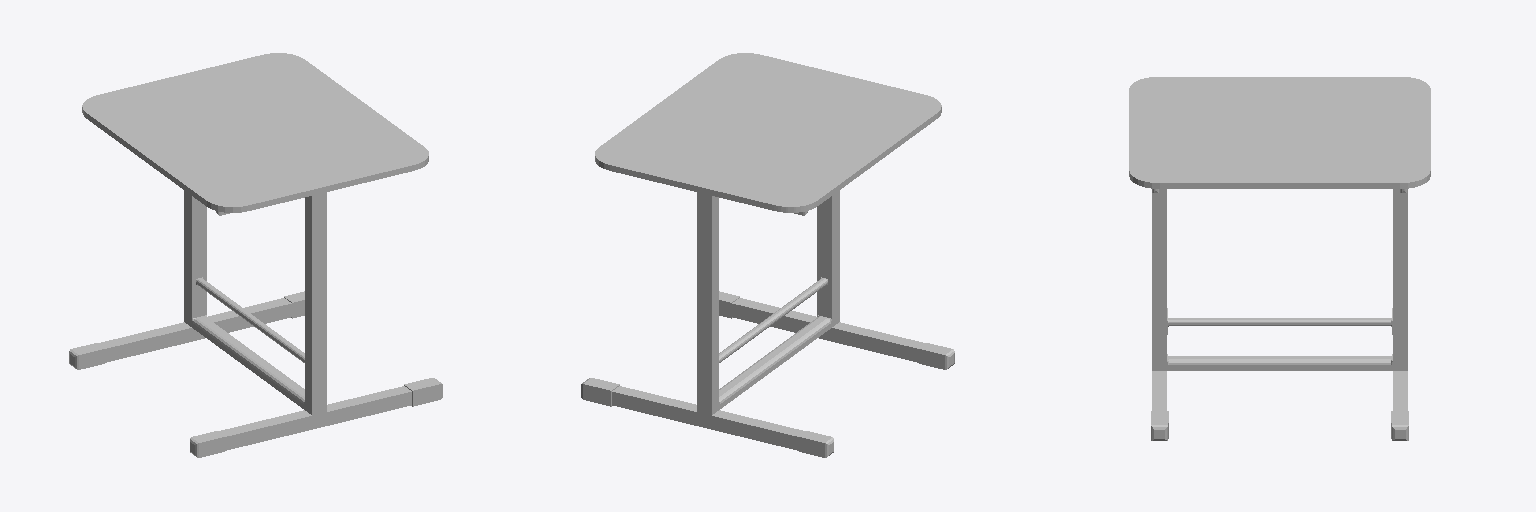
File: meja kelas.obj
3 views of the same model, side by side, from view 1: azimuth 30°, elevation 25°; view 2: azimuth 150°, elevation 25°; view 3: azimuth 270°, elevation 25° (orthographic).
Parts seen in each view (by area): view 1: Plane.001, Cube; view 2: Plane.001, Cube; view 3: Plane.001, Cube.
Part boxes in pixels (left/top/right/bottom): Plane.001: left=82, top=53, right=428, bottom=212; Cube: left=69, top=190, right=442, bottom=457; Plane.001: left=595, top=53, right=941, bottom=212; Cube: left=581, top=190, right=954, bottom=457; Plane.001: left=1129, top=77, right=1430, bottom=188; Cube: left=1151, top=189, right=1408, bottom=440.
Bounding box in the file's own units: 1.93 × 1.88 × 2.04.